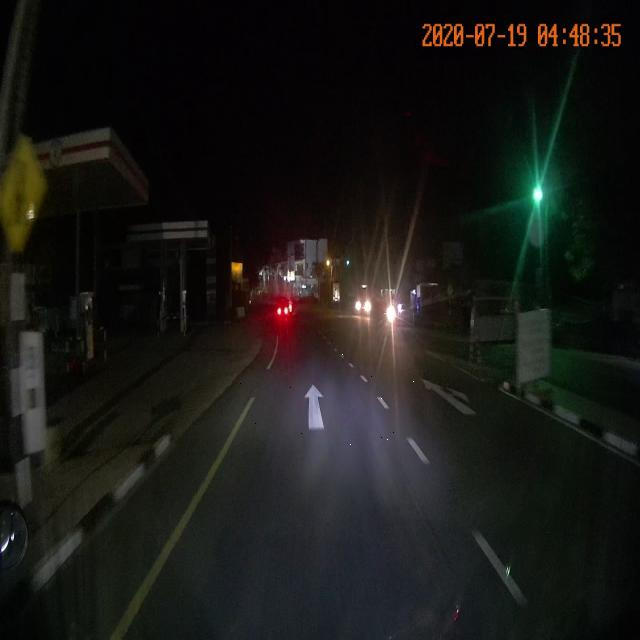forward: (217, 352, 428, 456)
